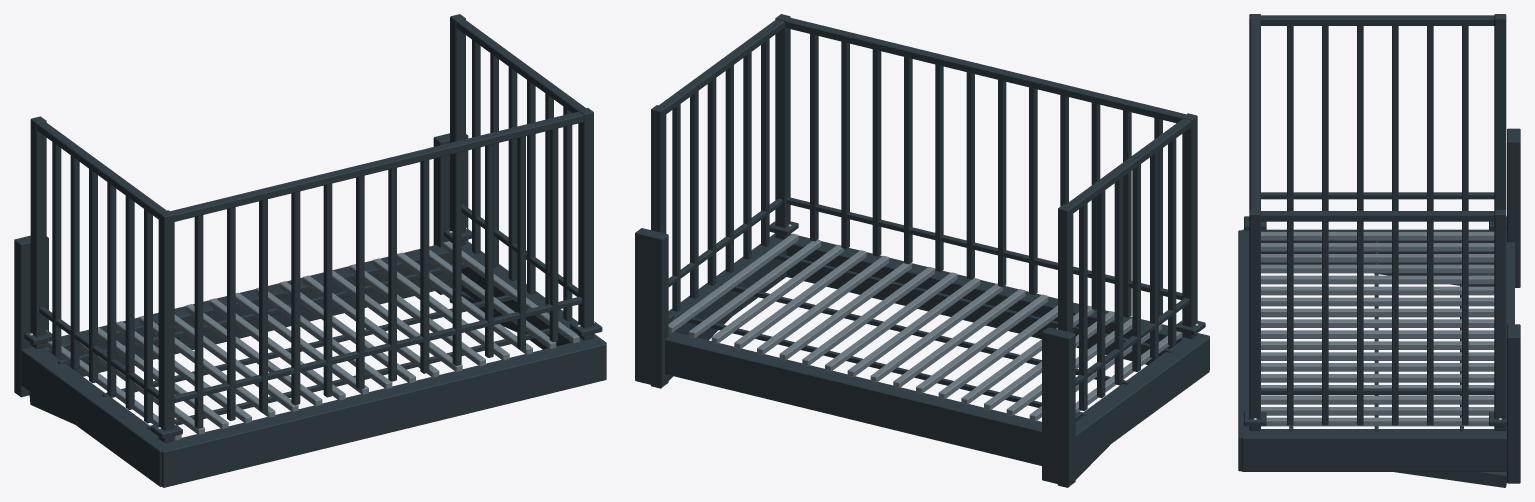
Rendered from b12_fire_escape_landing.glb.
3 views of the same model, side by side, from view 1: azimuth 30°, elevation 25°; view 2: azimuth 150°, elevation 25°; view 3: azimuth 270°, elevation 25° (orthographic). The views are drawn at different scales.
Visible parts, largest first — view 1: b12_fire_escape_landing; view 2: b12_fire_escape_landing; view 3: b12_fire_escape_landing.
Part boxes in pixels (x1,y1,x2,y2): b12_fire_escape_landing: [14, 14, 606, 487]; b12_fire_escape_landing: [635, 14, 1209, 487]; b12_fire_escape_landing: [1238, 14, 1520, 487].
Bounding box in the file's own units: 2.2 × 1.34 × 1.25.
